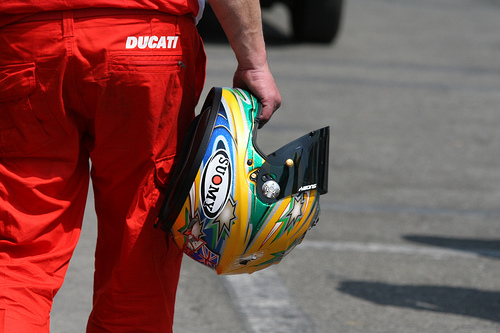helmet: (187, 86, 334, 283)
